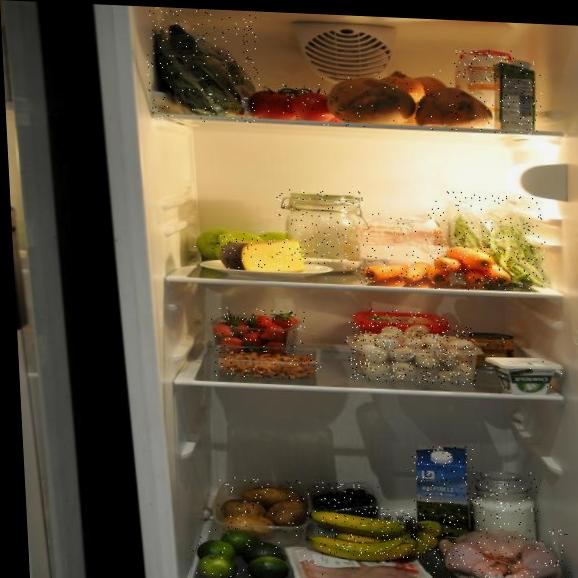apple: (192, 228, 307, 266)
banana: (316, 504, 438, 566)
blueberries: (313, 482, 381, 517)
butter: (351, 308, 450, 344)
carrot: (430, 244, 511, 292), (358, 260, 431, 286)
cheese: (220, 234, 307, 273)
chicken: (431, 522, 572, 578)
corn: (469, 332, 516, 369)
flour: (275, 188, 368, 274), (355, 209, 450, 270)
goat_cheese: (483, 356, 566, 396)
green_beans: (430, 190, 550, 294)
ham: (303, 552, 429, 578)
heavy_cream: (494, 59, 544, 135)
lime: (191, 528, 293, 578)
milk: (411, 444, 479, 548)
mushrooms: (344, 321, 477, 385)
onion: (375, 68, 451, 103)
potato: (218, 477, 312, 539)
shrimp: (213, 349, 322, 380)
spinach: (144, 6, 262, 123)
strawberries: (211, 307, 307, 353)
sugar: (454, 49, 519, 133), (471, 470, 540, 544)
sweet_potato: (318, 75, 501, 133)
tomato: (244, 83, 346, 122)
